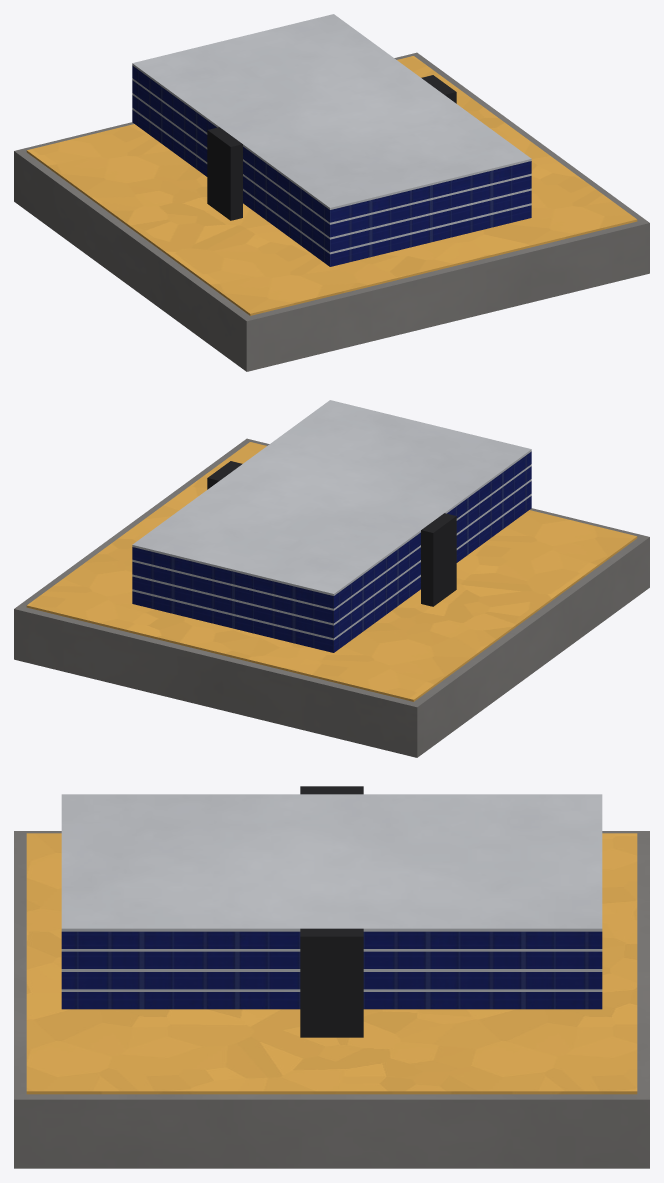
File: rover28_solar_mount_s.glb
The picture shows the model from 3 angles, top to bottom: view 1: azimuth 30°, elevation 25°; view 2: azimuth 150°, elevation 25°; view 3: azimuth 270°, elevation 25°; orthographic projection. The views are drawn at different scales.
Parts seen in each view (by area): view 1: panel_frames, base, base_foil, panel_stack, stow_clamps; view 2: panel_frames, base, base_foil, panel_stack, stow_clamps; view 3: panel_frames, base_foil, base, panel_stack, stow_clamps.
Part boxes in pixels (x1,y1,x2,y2): panel_frames: (132, 14, 531, 254); base: (14, 52, 649, 371); base_foil: (26, 56, 637, 315); panel_stack: (132, 65, 531, 266); stow_clamps: (207, 75, 456, 220); panel_frames: (132, 400, 531, 640); base: (14, 438, 649, 757); base_foil: (26, 442, 637, 701); panel_stack: (132, 451, 531, 652); stow_clamps: (207, 461, 456, 606); panel_frames: (61, 794, 602, 991); base_foil: (26, 833, 637, 1094); base: (14, 831, 649, 1168); panel_stack: (61, 931, 602, 1009); stow_clamps: (300, 786, 363, 1037).
Bounding box in the file's own units: 1 × 0.3 × 1.
Materials: 5 (4 with a texture image).
